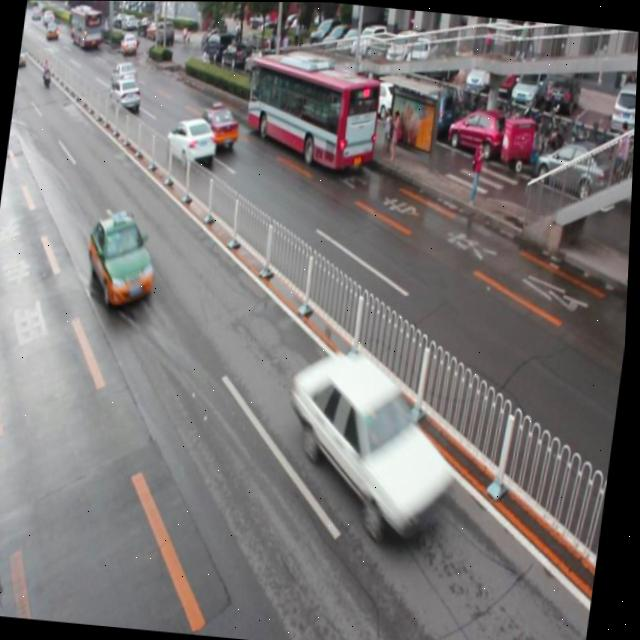car: (280, 345, 471, 540), (82, 207, 165, 310), (164, 113, 219, 169), (194, 101, 243, 153)
van: (241, 52, 385, 172)
